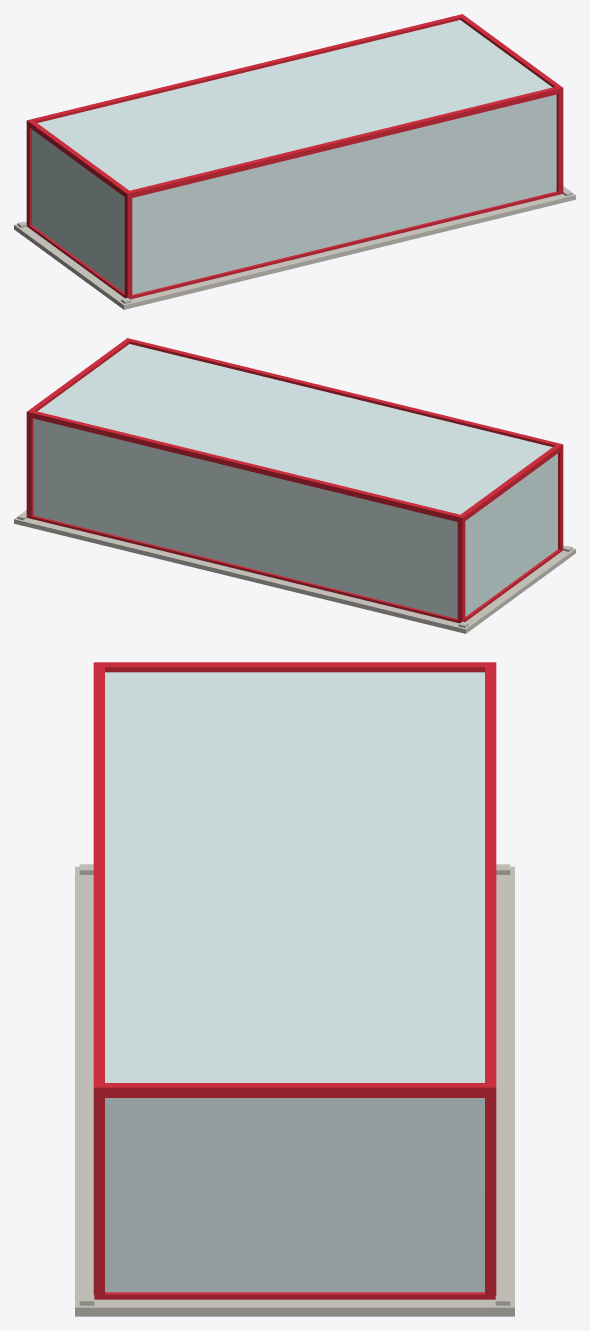
File: ferrari-f1-team.glb
The picture shows the model from 3 angles, top to bottom: view 1: azimuth 30°, elevation 25°; view 2: azimuth 150°, elevation 25°; view 3: azimuth 270°, elevation 25°; orthographic projection. The views are drawn at different scales.
Bounding box in the file's own units: 0.64 × 0.1495 × 0.27.
